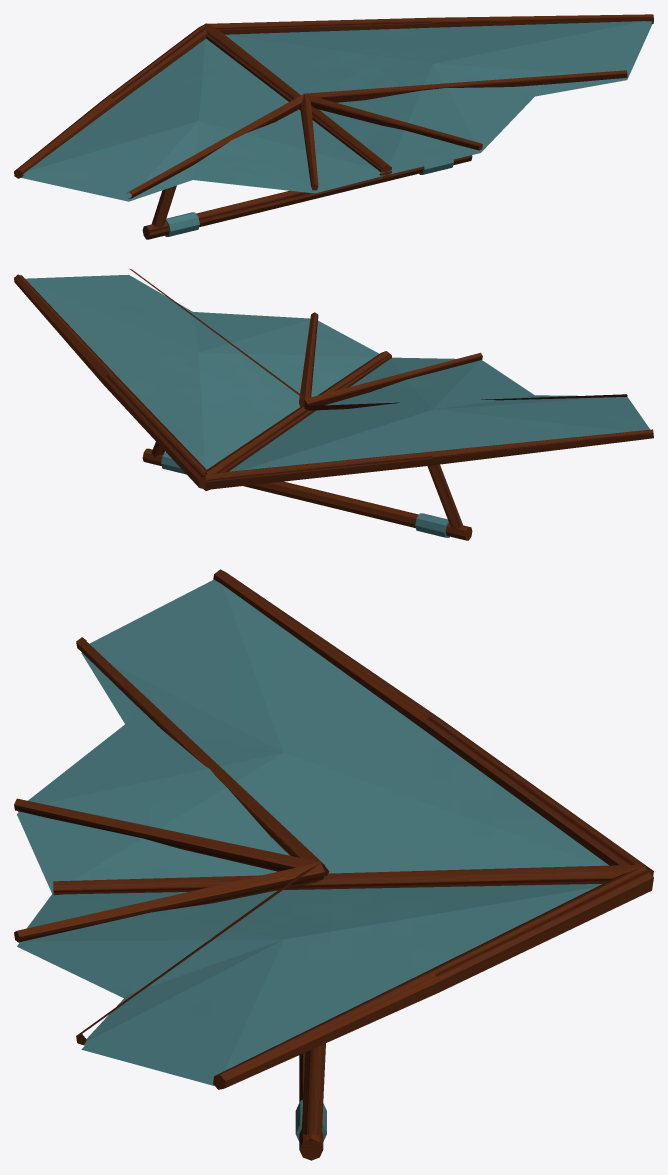
File: glider_01.glb
3 renders of one model, top to bottom at view 1: azimuth 30°, elevation 25°; view 2: azimuth 150°, elevation 25°; view 3: azimuth 270°, elevation 25°, orthographic. The views are drawn at different scales.
Visible parts, largest first — view 1: glider_01; view 2: glider_01; view 3: glider_01.
Boxes of the visible parts, left/top/right/bottom form: glider_01: left=14, top=14, right=653, bottom=239; glider_01: left=14, top=268, right=653, bottom=540; glider_01: left=14, top=569, right=653, bottom=1160.
Bounding box in the file's own units: 2.62 × 0.5118 × 1.39.
Materials: 2 (2 with a texture image).
